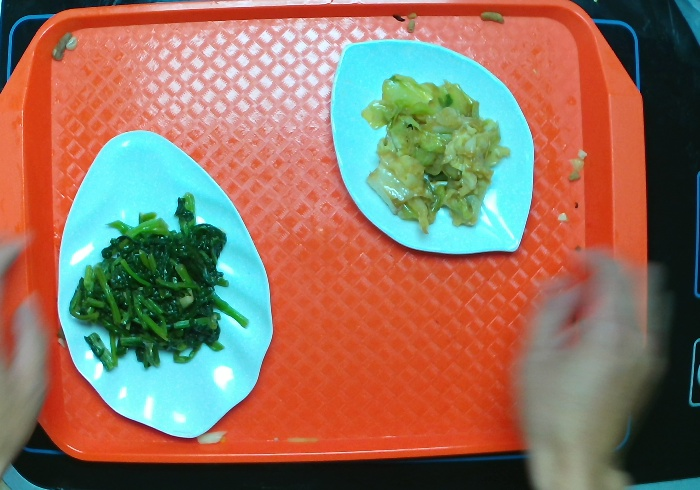RJxy-Bai_Ye_Pan: (53, 125, 273, 437)
RJxy-Da_Du_Pan: (331, 39, 538, 255)
